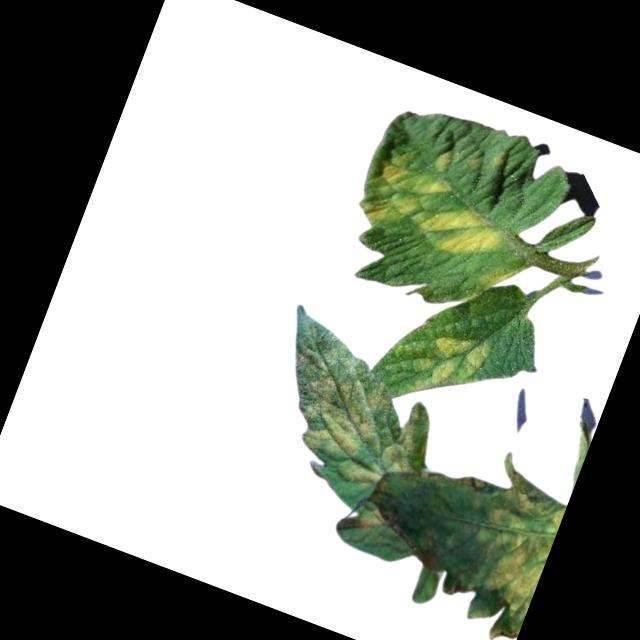Leaf_Mold: (283, 351, 444, 500), (445, 477, 567, 639), (352, 143, 457, 247), (413, 194, 515, 273), (405, 320, 494, 410), (356, 505, 389, 537), (486, 148, 512, 177), (433, 146, 456, 174)
